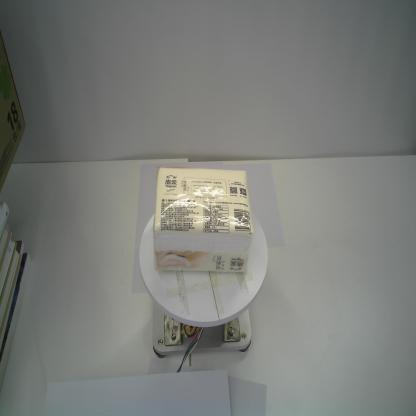Tissue: (152, 166, 254, 274)
